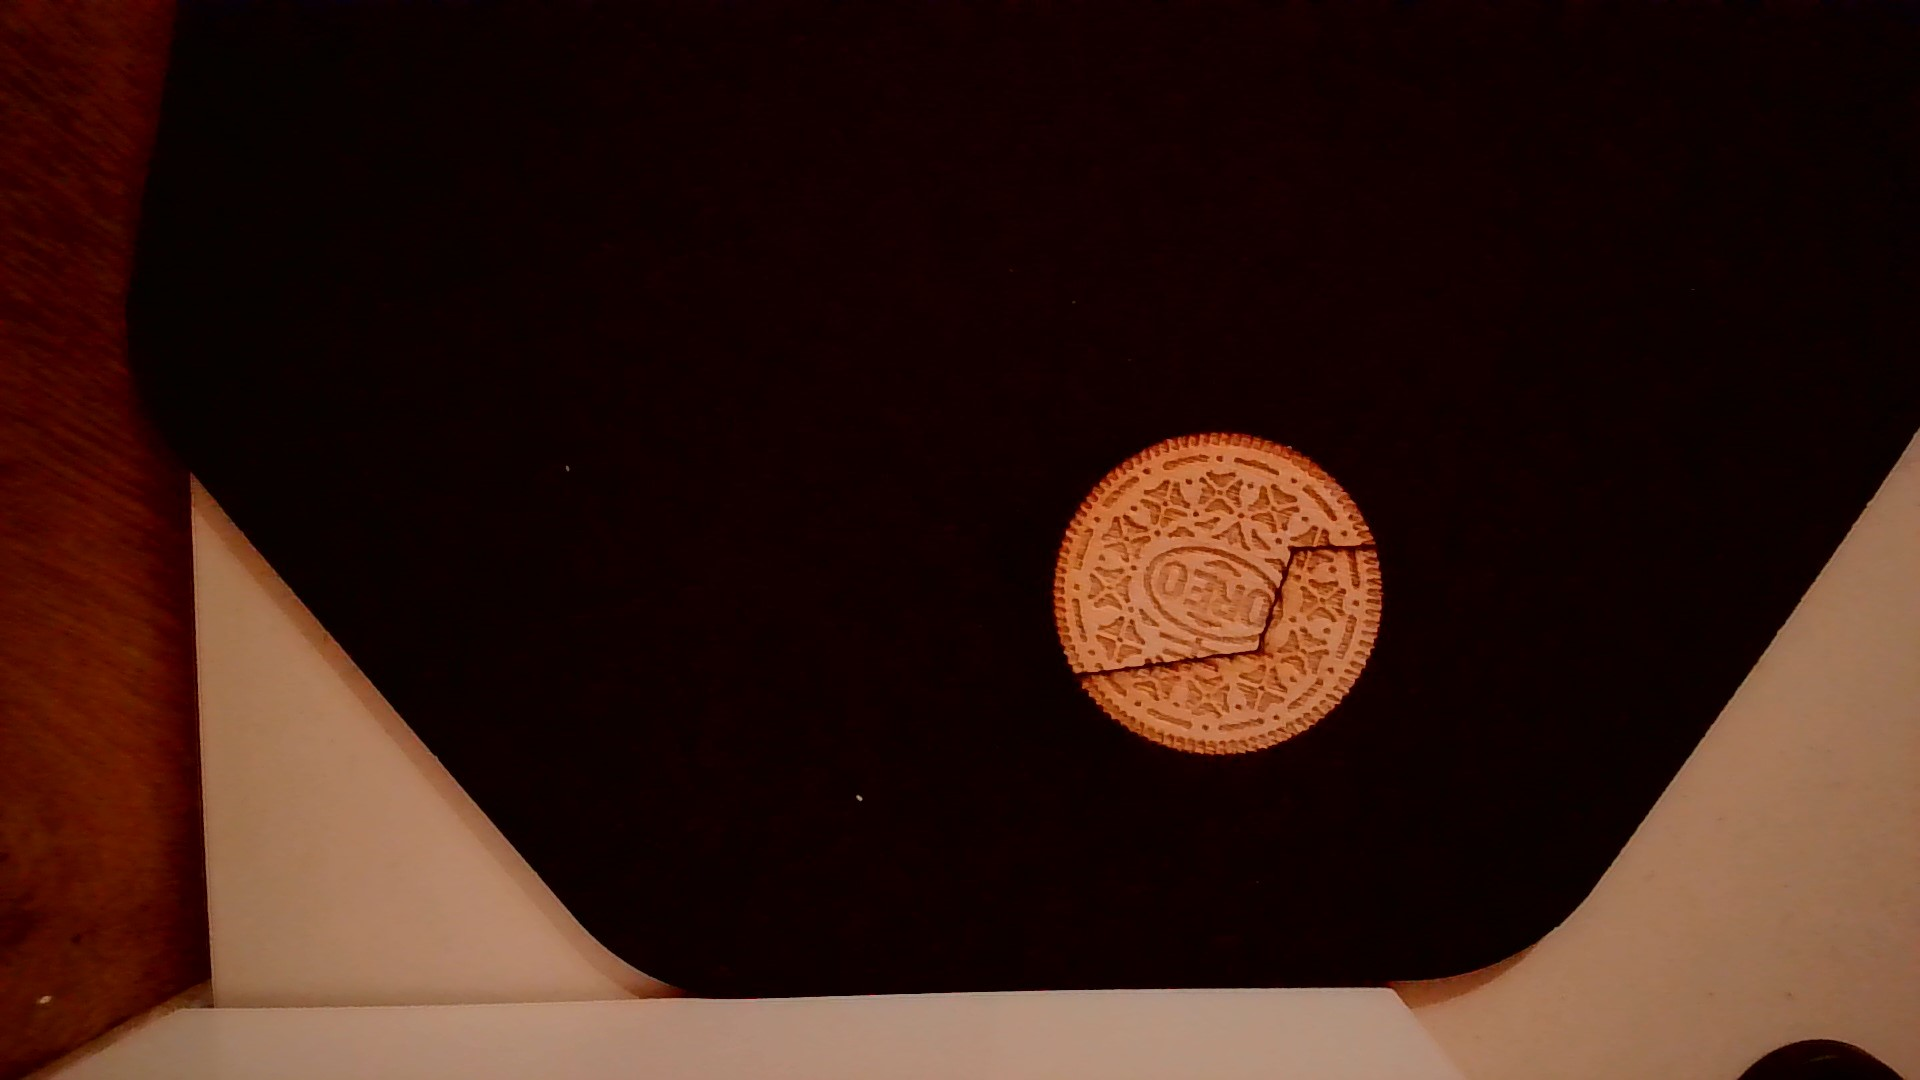Fissure: (1062, 534, 1396, 688)
Oréo: (1044, 427, 1386, 764)
